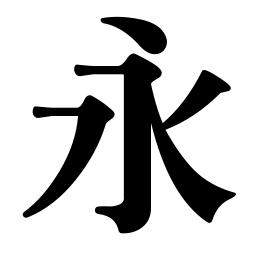D: (99, 12, 170, 51)
HSZ: (110, 54, 162, 85)
Hs: (72, 61, 100, 78)
Ne: (188, 178, 240, 226)
PNc: (153, 110, 181, 142)
PZe: (21, 192, 56, 220)
Ps: (195, 66, 237, 102)
SG: (93, 195, 154, 236)
Sm: (121, 149, 155, 176)
TPZ: (67, 91, 115, 133)
Ts: (29, 102, 55, 122)
